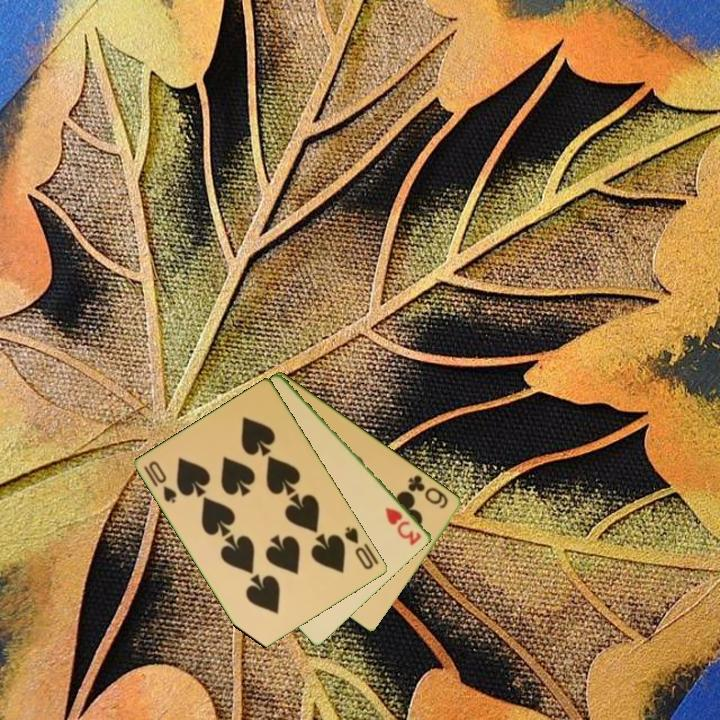10s: (140, 457, 180, 506), (341, 523, 377, 573)
3h: (382, 504, 425, 549)
6c: (404, 471, 451, 512)
